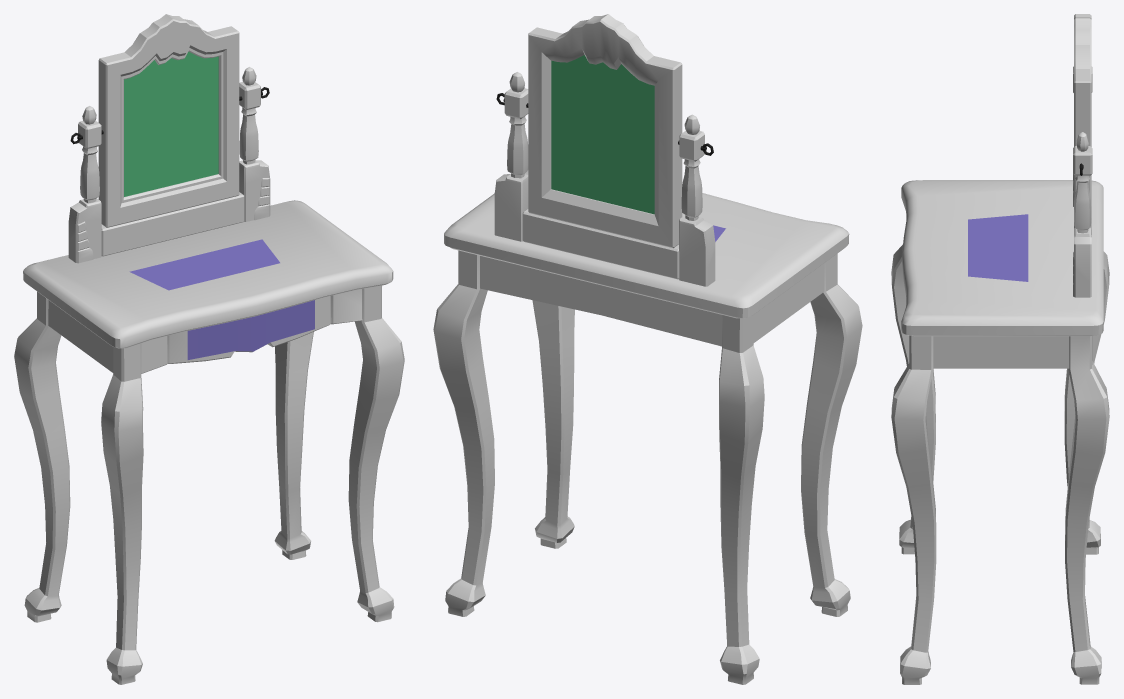
3 views of the same model, side by side, from view 1: azimuth 30°, elevation 25°; view 2: azimuth 150°, elevation 25°; view 3: azimuth 270°, elevation 25° (orthographic). The views are drawn at different scales.
Parts seen in each view (by area): view 1: DR1201; view 2: DR1201; view 3: DR1201.
Boxes of the visible parts, box(x1,y1,x2,y2) form: DR1201: box(14, 14, 404, 684); DR1201: box(433, 14, 862, 684); DR1201: box(891, 14, 1109, 684).
Bounding box in the file's own units: 85 × 53 × 160.
